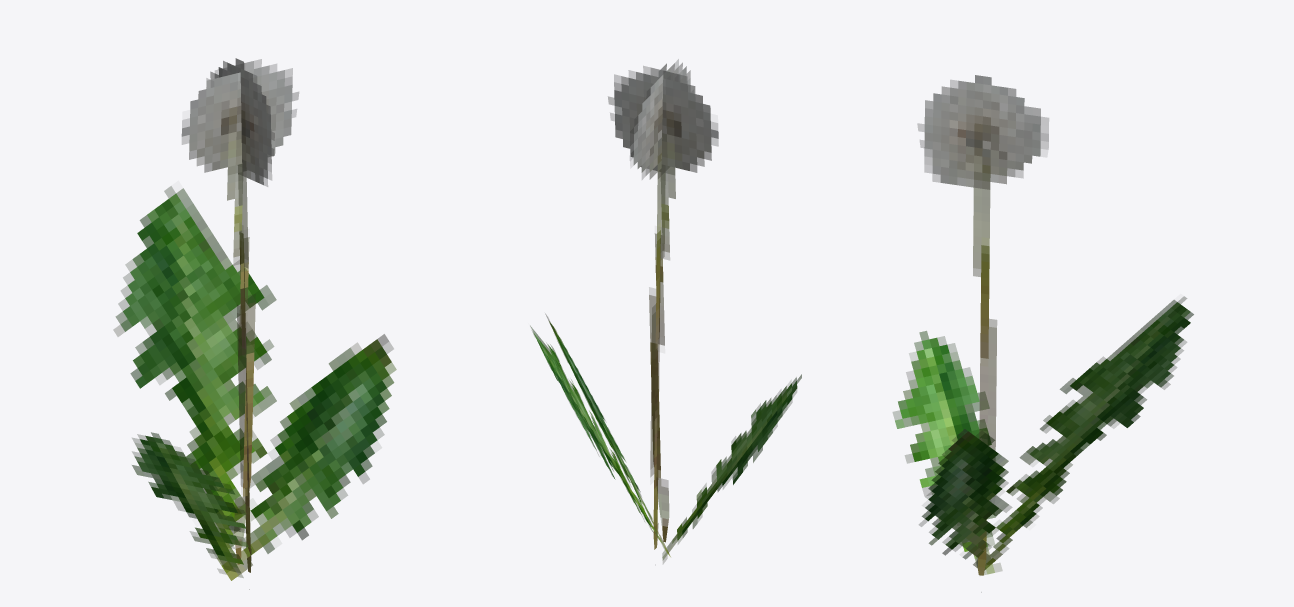
File: Dandelion.glb
3 renders of one model, left to right at view 1: azimuth 30°, elevation 25°; view 2: azimuth 150°, elevation 25°; view 3: azimuth 270°, elevation 25°, orthographic. The views are drawn at different scales.
Visible parts, largest first — view 1: PSX_Dandelion; view 2: PSX_Dandelion; view 3: PSX_Dandelion.
Part boxes in pixels (x1,y1,x2,y2): PSX_Dandelion: (114, 58, 396, 589); PSX_Dandelion: (530, 59, 801, 565); PSX_Dandelion: (893, 75, 1193, 592).
Size of the model in its own units: 0.4476 by 0.765 by 0.5643.
1 material, 1 textured.
